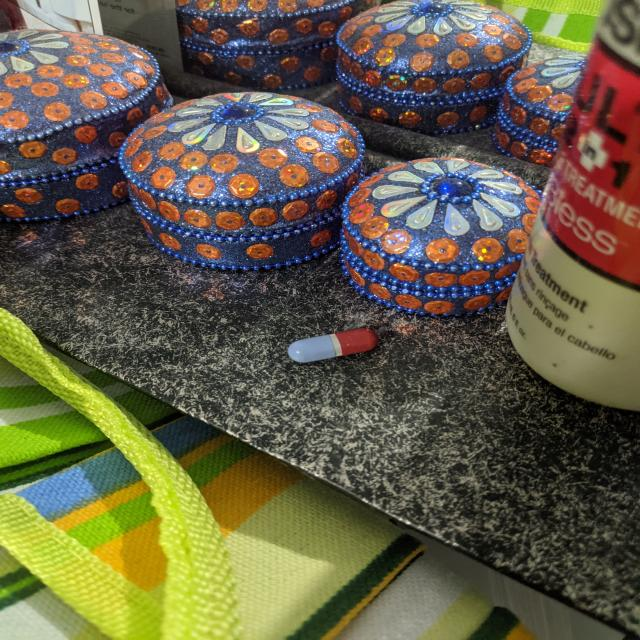non-organic waste: (286, 327, 380, 364)
